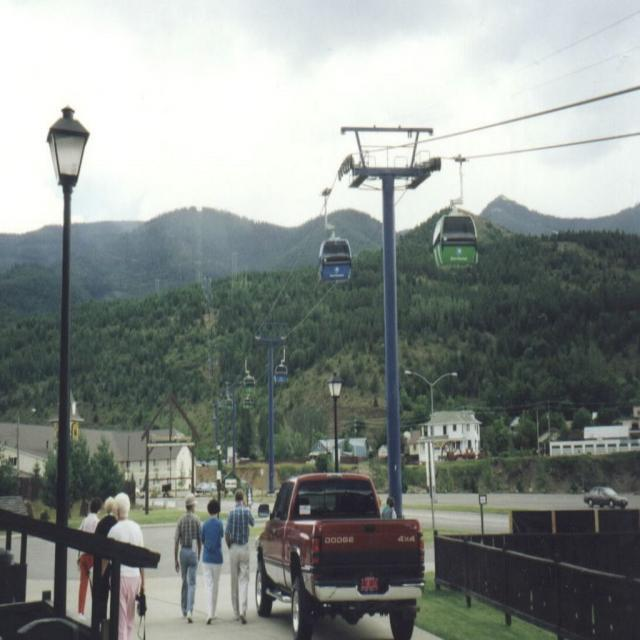bicycle: (241, 483, 440, 633)
